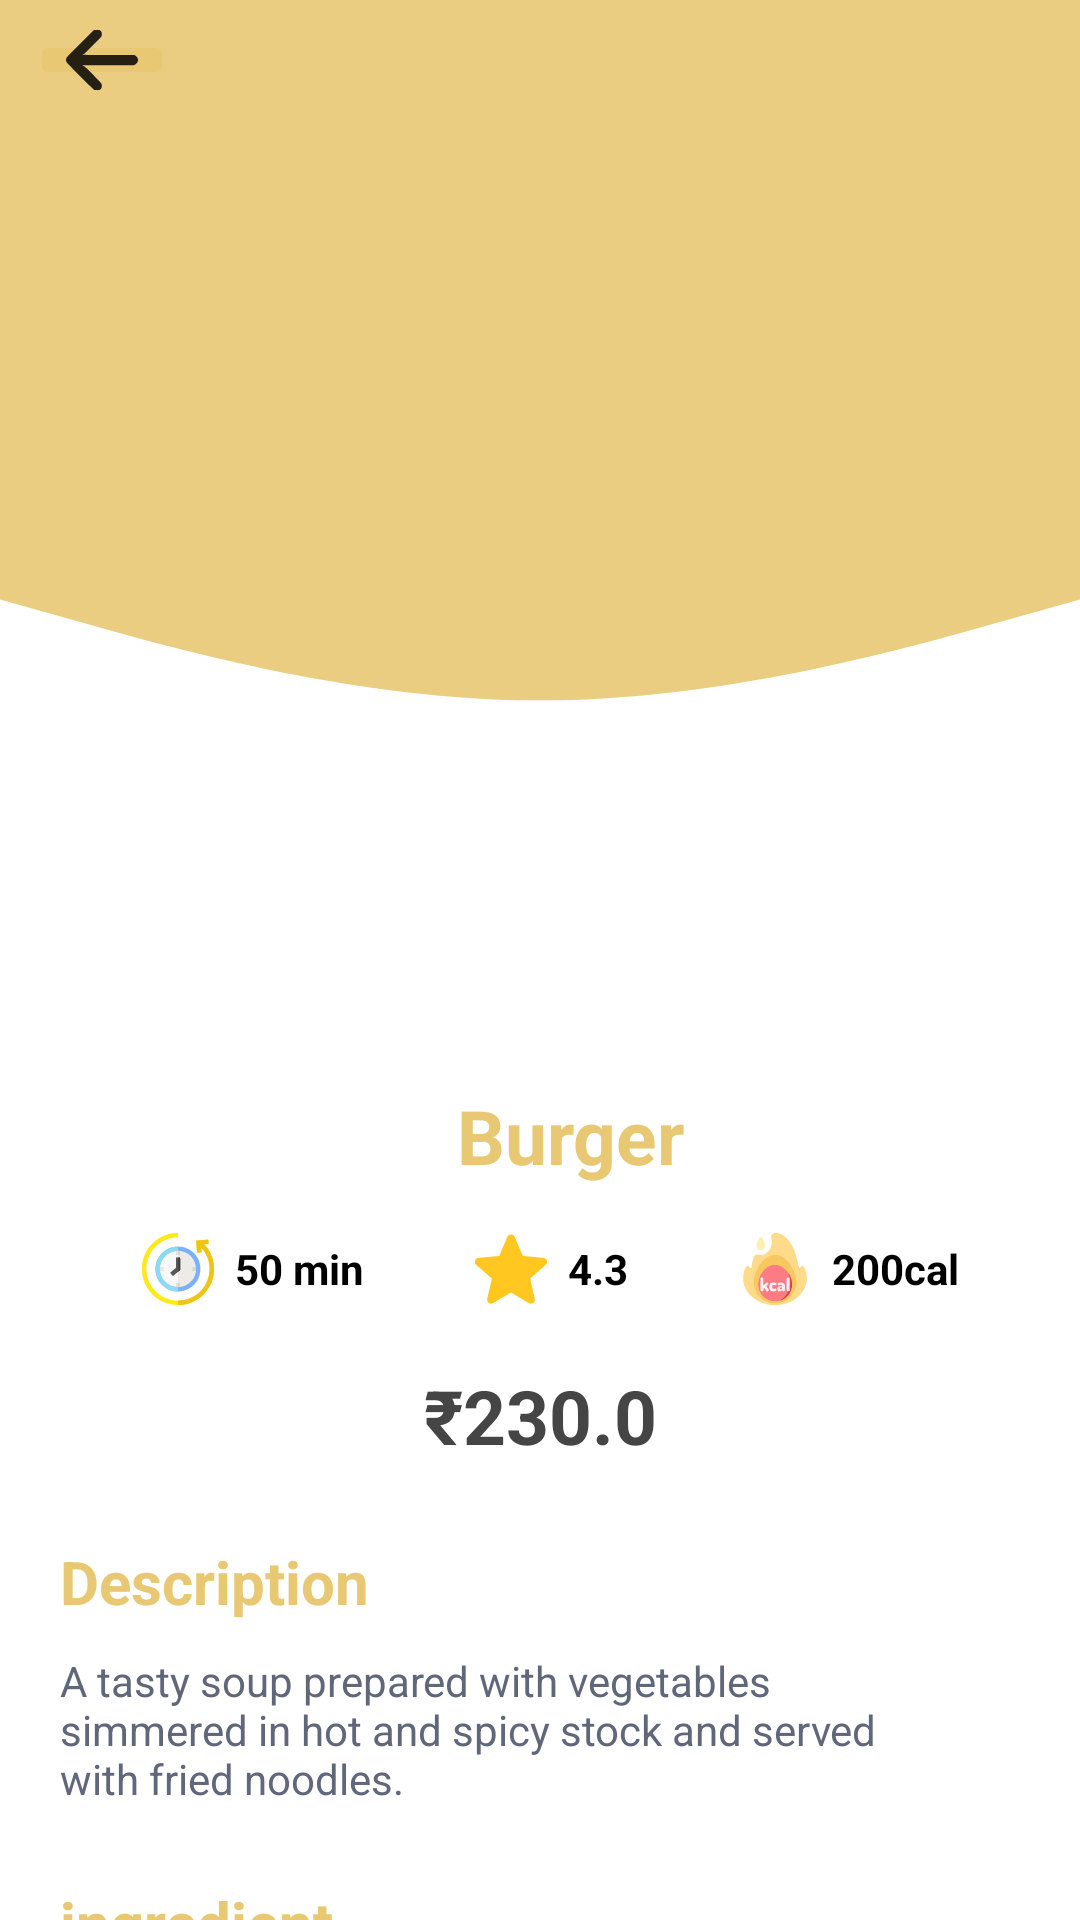

Screen size 1080*1920. Icon name, then its center in pixels as point (x, y):
back arrow: point (102, 60)
back in time: point (178, 1269)
calories: point (775, 1269)
star: point (511, 1269)
